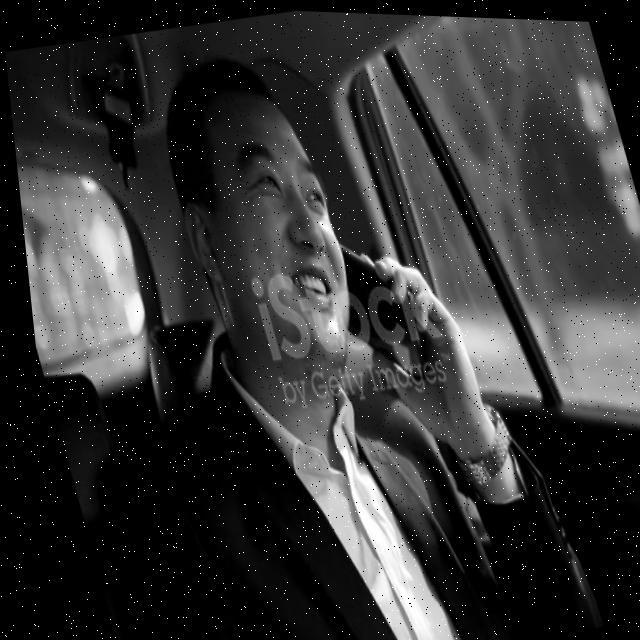PhoneCall: (322, 234, 423, 395)
